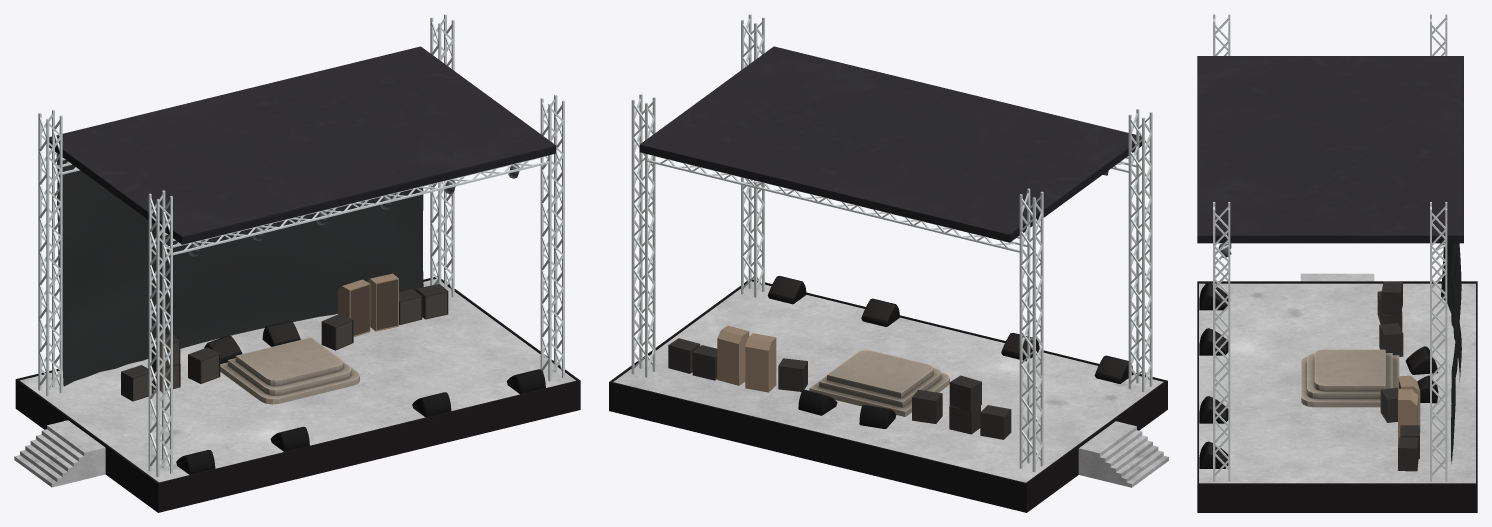
File: STAGE.glb
3 views of the same model, side by side, from view 1: azimuth 30°, elevation 25°; view 2: azimuth 150°, elevation 25°; view 3: azimuth 270°, elevation 25° (orthographic).
Parts seen in each view (by area): view 1: concert-stage.main.final__0; view 2: concert-stage.main.final__0; view 3: concert-stage.main.final__0.
Part boxes in pixels (left/top/right/bottom): concert-stage.main.final__0: left=14, top=14, right=580, bottom=512; concert-stage.main.final__0: left=609, top=14, right=1168, bottom=512; concert-stage.main.final__0: left=1197, top=14, right=1477, bottom=512.
Size of the model in its own units: 8.17 by 5 by 4.24.
1 material, 1 textured.
